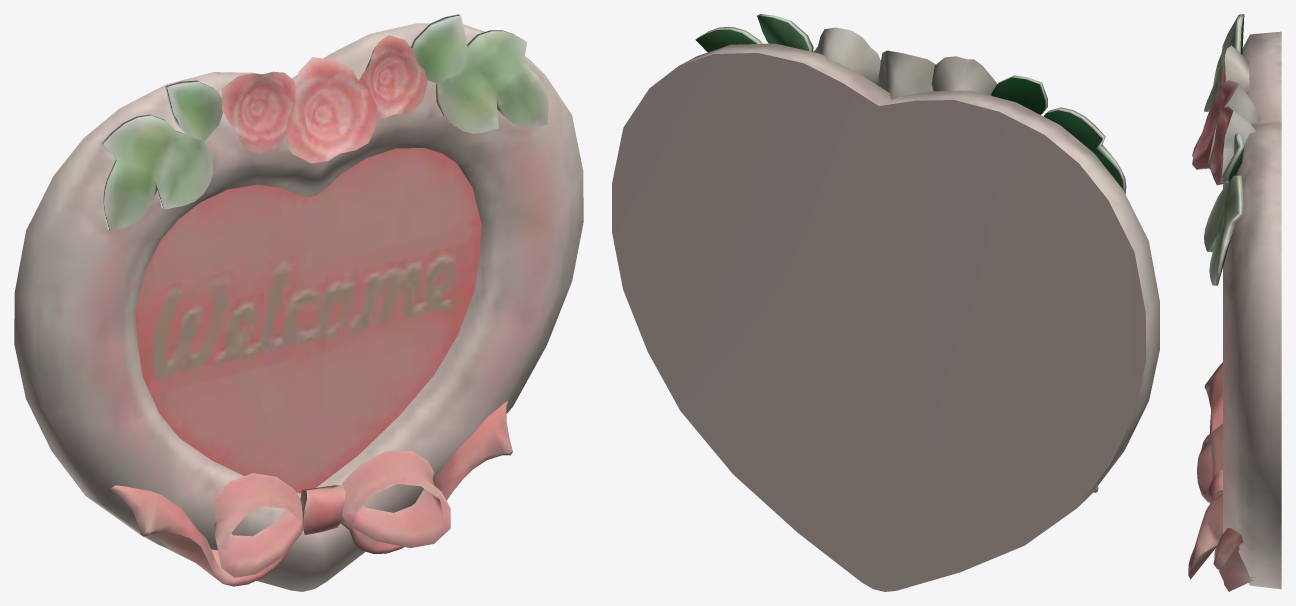
3 renders of one model, left to right at view 1: azimuth 30°, elevation 25°; view 2: azimuth 150°, elevation 25°; view 3: azimuth 270°, elevation 25°, orthographic. The views are drawn at different scales.
Size of the model in its own units: 5.54 by 5.23 by 0.8743.
Materials: 1 (1 with a texture image).
